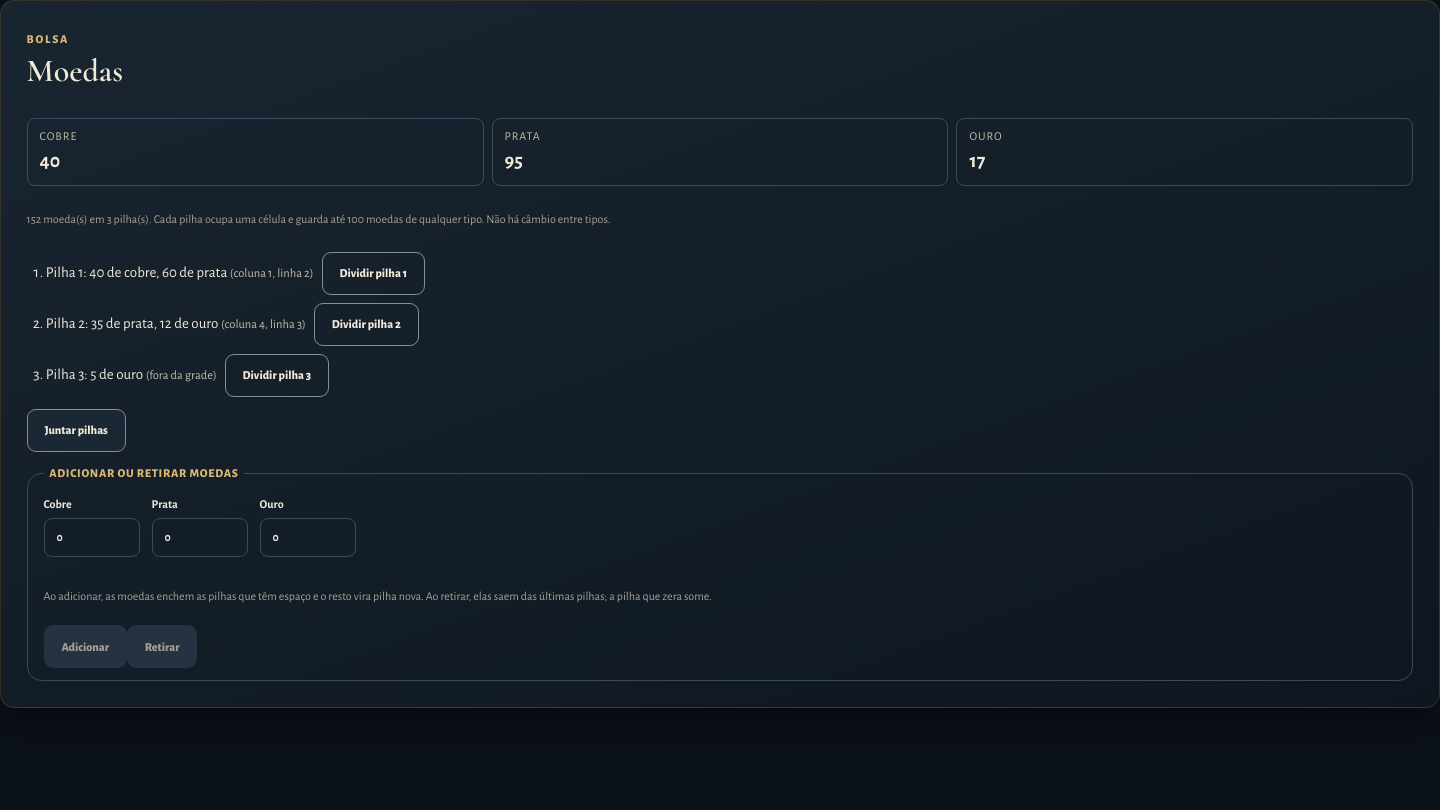
Test: CoinPurse — 5.3 moedas na tela › adicionar envia só as moedas digitadas e zera o editor
Replace the text in the number field labelled "Ouro" with "30". click: (308, 537)
box: [260,518,356,557]
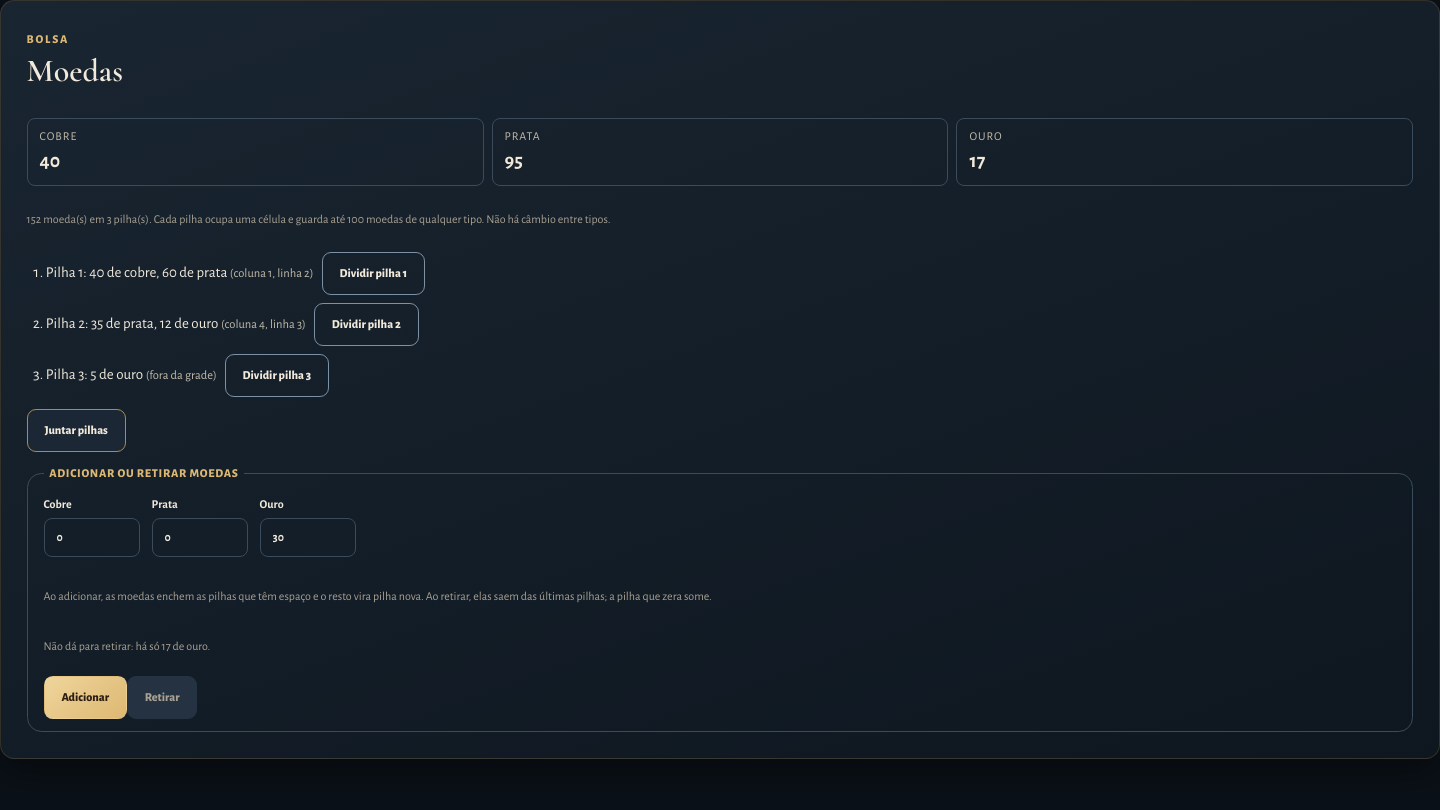
Replace the text in the number field labelled "Cobre" with "5". click: (92, 537)
box: [44,518,140,557]
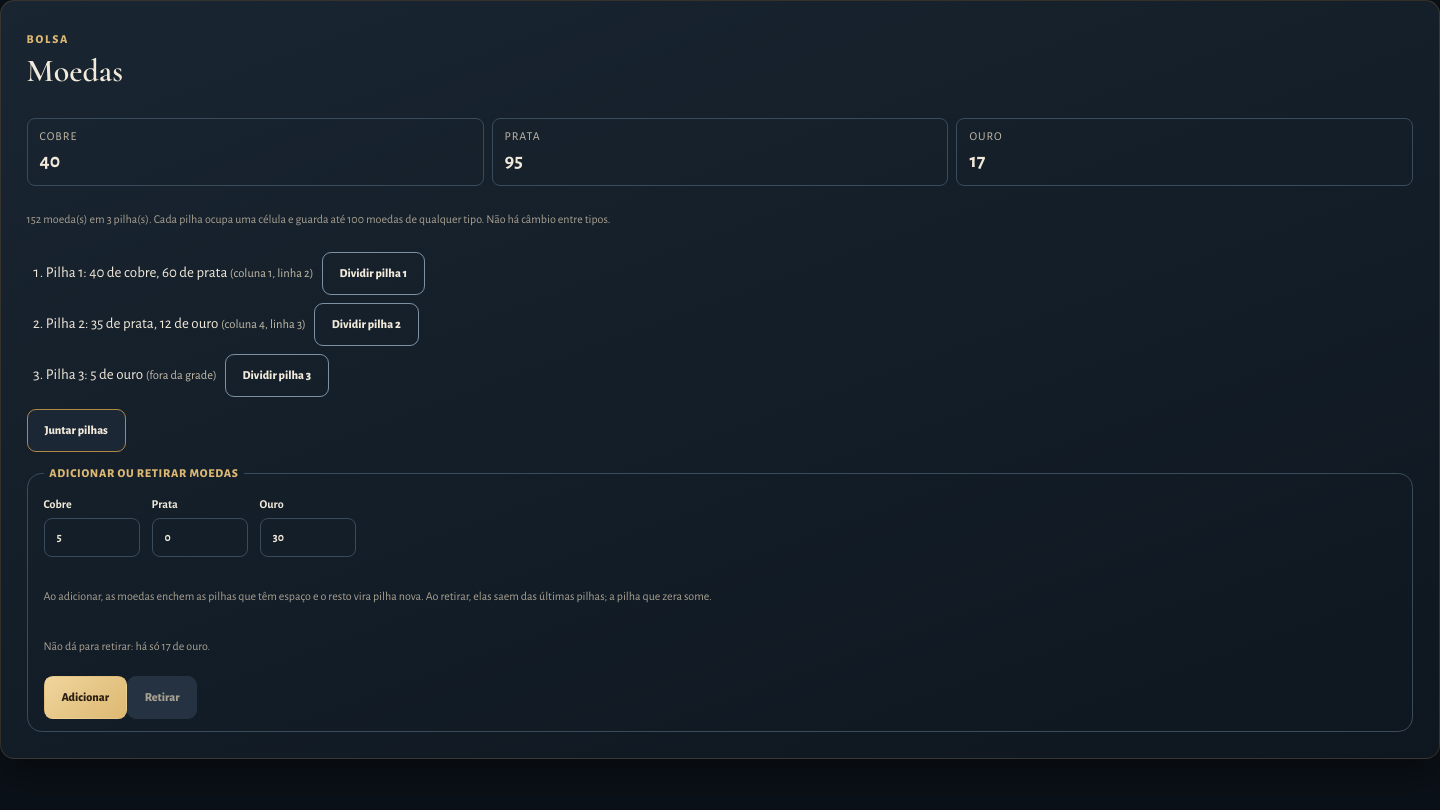
Click the button "Adicionar". click: (85, 698)
box: [44,676,127,719]
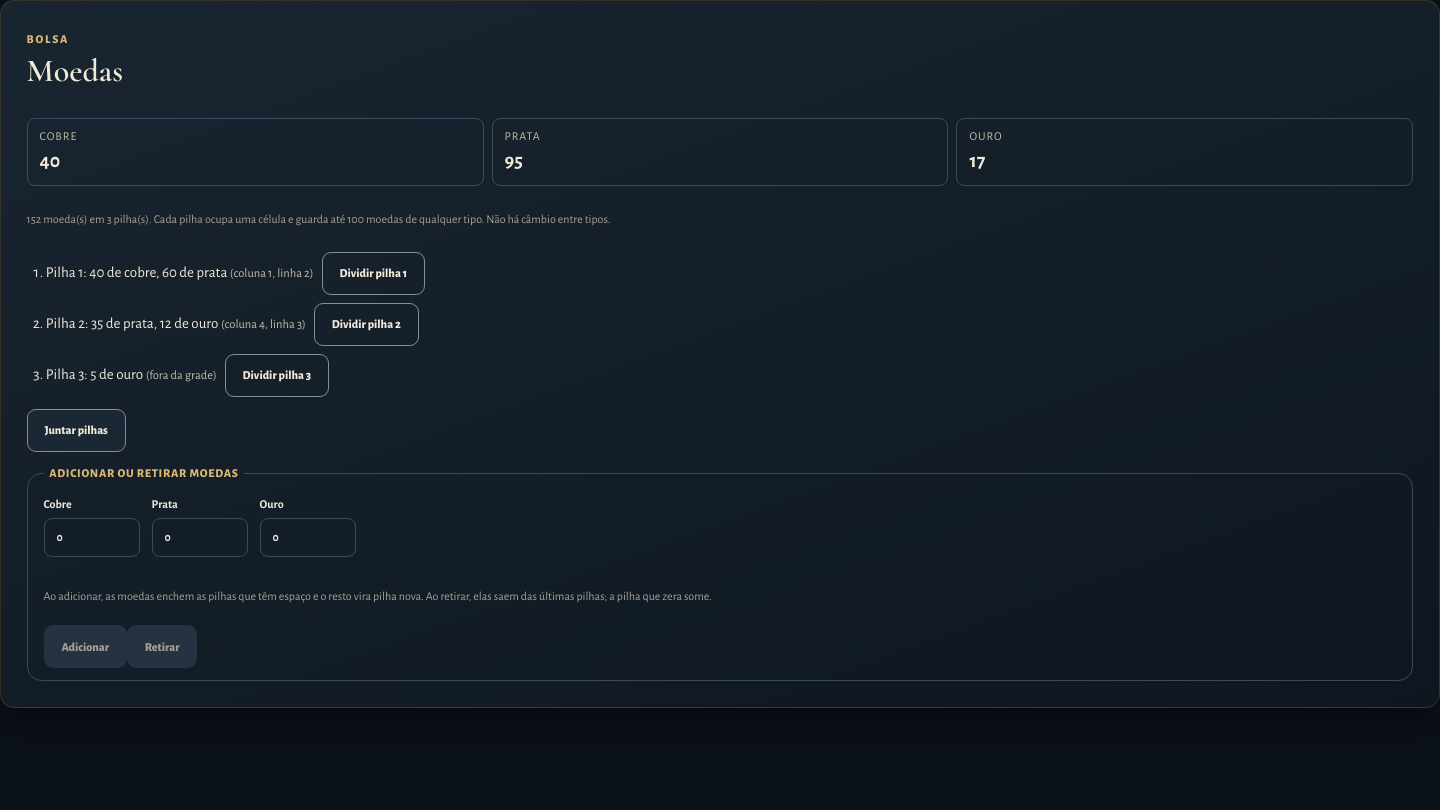
Now the number field labelled "Ouro" holds "0", box [260,518,356,557]
Now the number field labelled "Cobre" holds "0", box [44,518,140,557]
